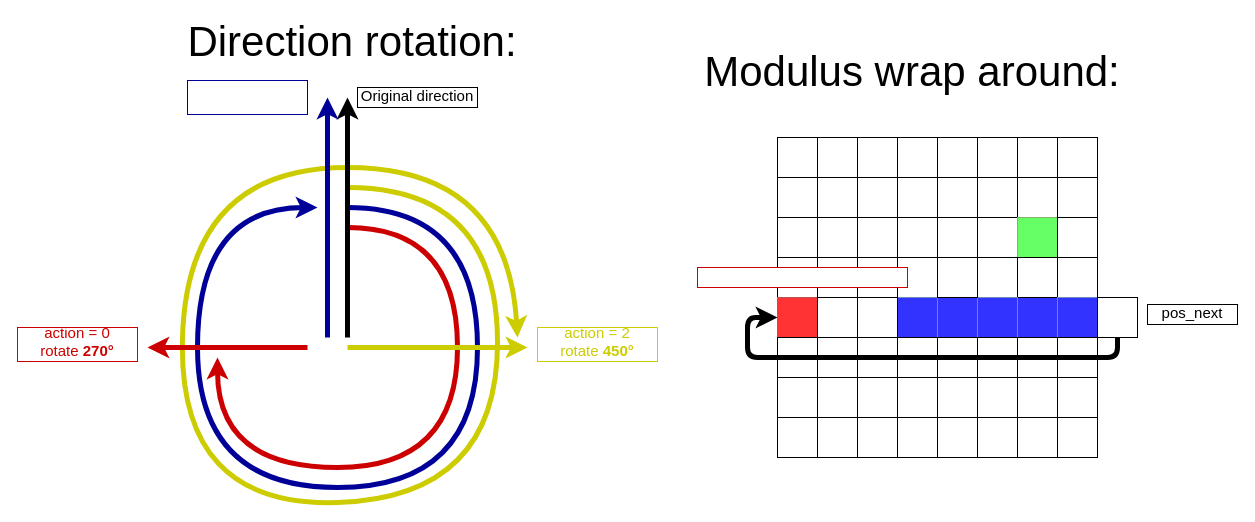
Image size: 1255x522. Some labels were removed from this diagram. The centre of each missing label's shape, as x and y in pixels:
action = 1 rotate 360 °: the point at 247,97
pos_next % T(snake.shape): the point at 802,277
